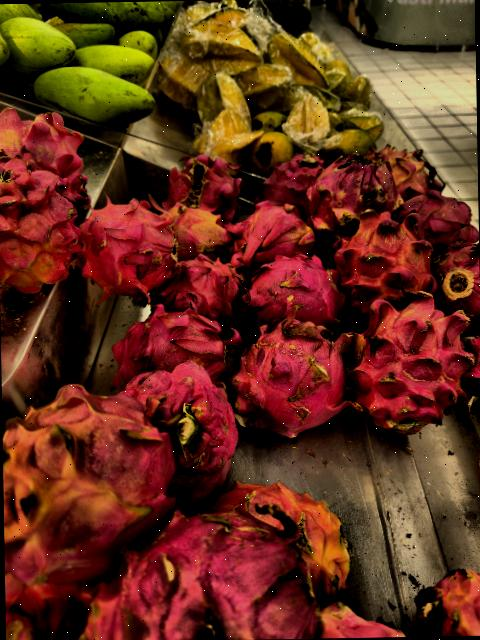buah-naga-belum-matang: (2, 385, 184, 574), (222, 476, 358, 576), (2, 156, 79, 288), (336, 207, 430, 310), (302, 158, 388, 236), (0, 111, 85, 176), (231, 200, 314, 262), (370, 142, 442, 200), (164, 198, 232, 256)
buah-naga-matang: (99, 520, 333, 640), (341, 293, 467, 432), (125, 357, 240, 495), (227, 321, 343, 429), (76, 197, 187, 301), (114, 306, 244, 374), (237, 252, 354, 322), (154, 256, 234, 318), (164, 158, 237, 220), (396, 189, 470, 240), (433, 238, 480, 316), (258, 152, 317, 212)
